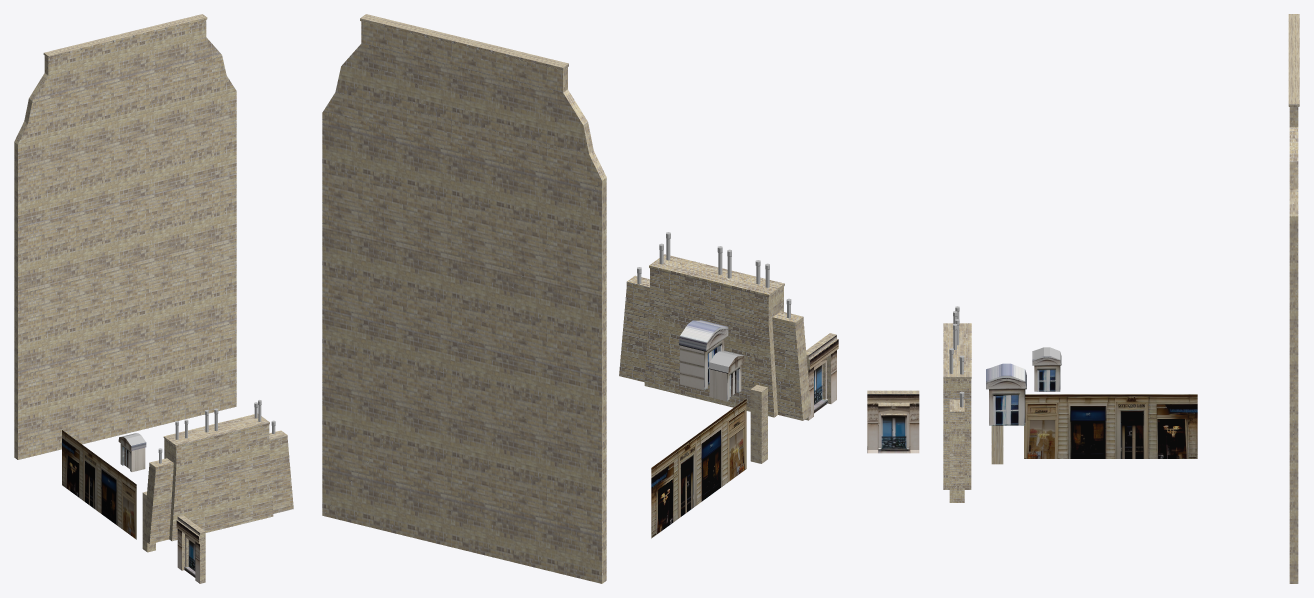
Rendered from BuildingCmodules.fbx.
The picture shows the model from 3 angles, left to right: view 1: azimuth 30°, elevation 25°; view 2: azimuth 150°, elevation 25°; view 3: azimuth 270°, elevation 25°; orthographic projection. The views are drawn at different scales.
Visible parts, largest first — view 1: pCube37, pCylinder9, pPlane376, pPlane377, pPlane418; view 2: pCube37, pCylinder9, pPlane376, pPlane252, pPlane377, pPlane418, pCube36; view 3: pPlane376, pCube37, pCylinder9, pPlane377, pPlane252, pPlane418.
Boxes of the visible parts, x1,y1,x2,y2 form: pCube37: (14,14,236,459); pCylinder9: (143,400,293,543); pPlane376: (62,430,136,539); pPlane377: (176,515,205,583); pPlane418: (118,433,146,471); pCube37: (322,14,606,583); pCylinder9: (619,232,811,420); pPlane376: (651,398,746,538); pPlane252: (679,320,728,390); pPlane377: (805,333,838,420); pPlane418: (709,351,744,401); pCube36: (750,385,767,463); pPlane376: (1024,394,1197,458); pCube37: (1288,14,1299,583); pCylinder9: (943,306,971,502); pPlane377: (867,390,919,453); pPlane252: (986,363,1026,425); pPlane418: (1032,347,1061,391).
Bounding box in the file's own units: 321 × 522 × 442.
